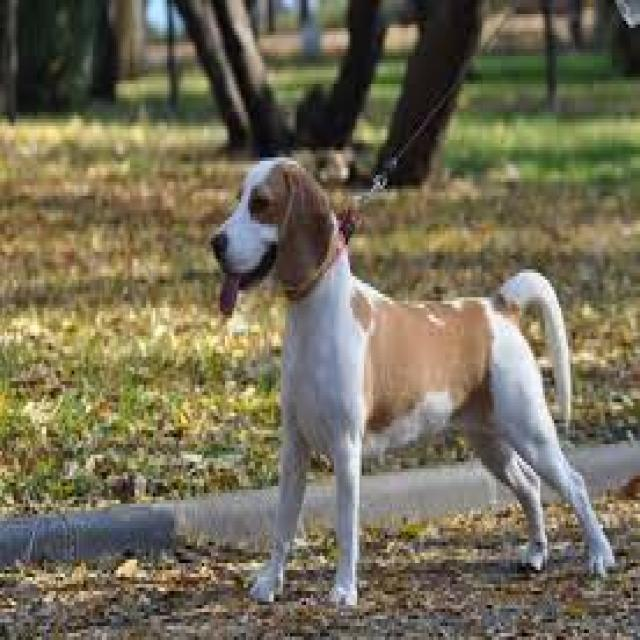good: (196, 152, 618, 615)
